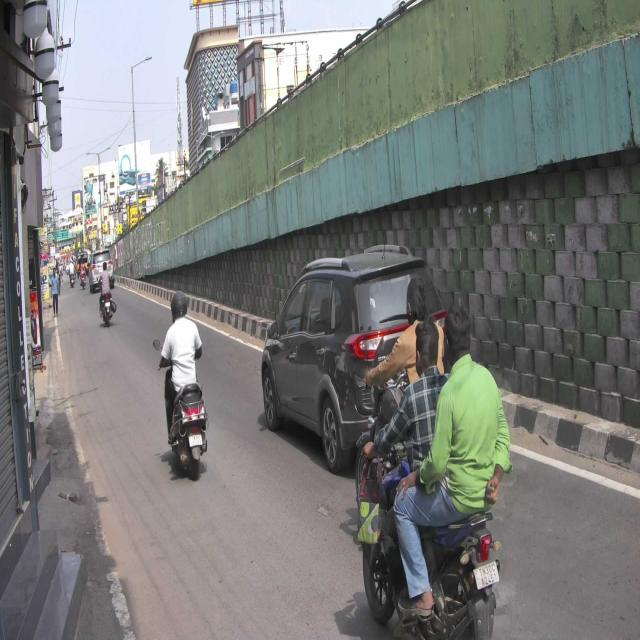double_rider: (363, 308, 512, 640)
single_rider: (157, 288, 211, 482)
